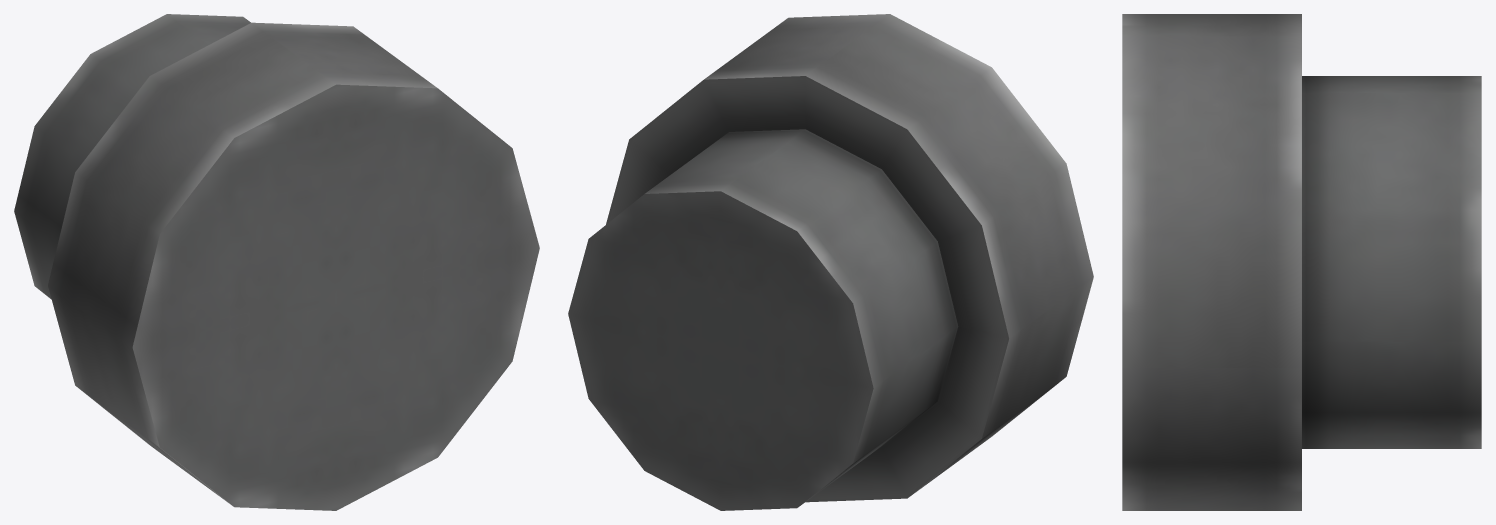
The model's file is Acamar_Solar_1_Base.obj.
The picture shows the model from 3 angles, left to right: view 1: azimuth 30°, elevation 25°; view 2: azimuth 150°, elevation 25°; view 3: azimuth 270°, elevation 25°; orthographic projection. The views are drawn at different scales.
Visible parts, largest first — view 1: Acamar_Solar_1_Base; view 2: Acamar_Solar_1_Base; view 3: Acamar_Solar_1_Base.
Boxes of the visible parts, box(x1,y1,x2,y2) form: Acamar_Solar_1_Base: box(14, 14, 539, 510); Acamar_Solar_1_Base: box(568, 14, 1093, 510); Acamar_Solar_1_Base: box(1122, 14, 1481, 510).
Bounding box in the file's own units: 0.125 × 0.125 × 0.09.
